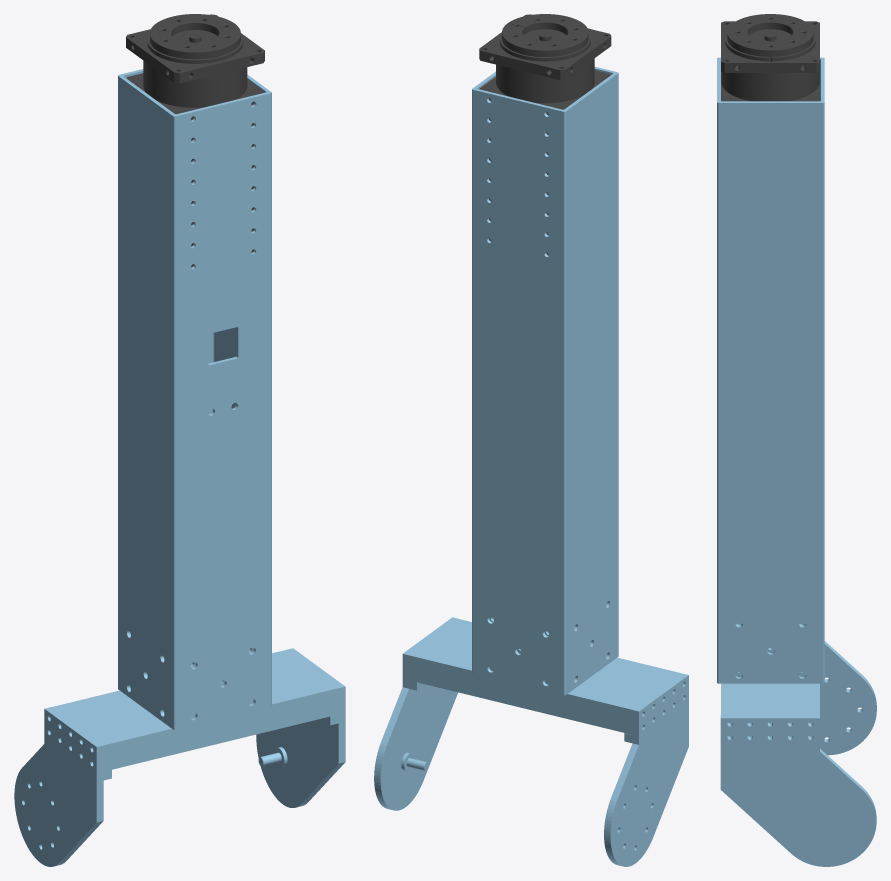
The picture shows the model from 3 angles, left to right: view 1: azimuth 30°, elevation 25°; view 2: azimuth 150°, elevation 25°; view 3: azimuth 270°, elevation 25°; orthographic projection. The views are drawn at different scales.
Parts seen in each view (by area): view 1: Elo3, Part 1, Frame_junta_lat_parafuso, H54-200-S500-R, Frame_junta_lat_rolamento; view 2: Elo3, Part 1, Frame_junta_lat_parafuso, H54-200-S500-R, Frame_junta_lat_rolamento; view 3: Elo3, Frame_junta_lat_rolamento, H54-200-S500-R, Frame_junta_lat_parafuso, Part 1.
Part boxes in pixels (left/top/right/bottom): Elo3: left=118, top=69, right=271, bottom=729; Part 1: left=51, top=650, right=338, bottom=771; Frame_junta_lat_parafuso: left=14, top=707, right=111, bottom=866; H54-200-S500-R: left=126, top=14, right=264, bottom=267; Frame_junta_lat_rolamento: left=256, top=648, right=345, bottom=807; Elo3: left=472, top=66, right=618, bottom=695; Part 1: left=409, top=619, right=681, bottom=734; Frame_junta_lat_parafuso: left=604, top=673, right=688, bottom=866; H54-200-S500-R: left=479, top=14, right=611, bottom=255; Frame_junta_lat_rolamento: left=374, top=617, right=458, bottom=810; Elo3: left=717, top=57, right=824, bottom=683; Frame_junta_lat_rolamento: left=720, top=715, right=876, bottom=866; H54-200-S500-R: left=721, top=14, right=819, bottom=101; Frame_junta_lat_parafuso: left=820, top=641, right=876, bottom=755; Part 1: left=721, top=683, right=819, bottom=736.
Bounding box in the file's own units: 0.1482 × 0.0871 × 0.4678.
